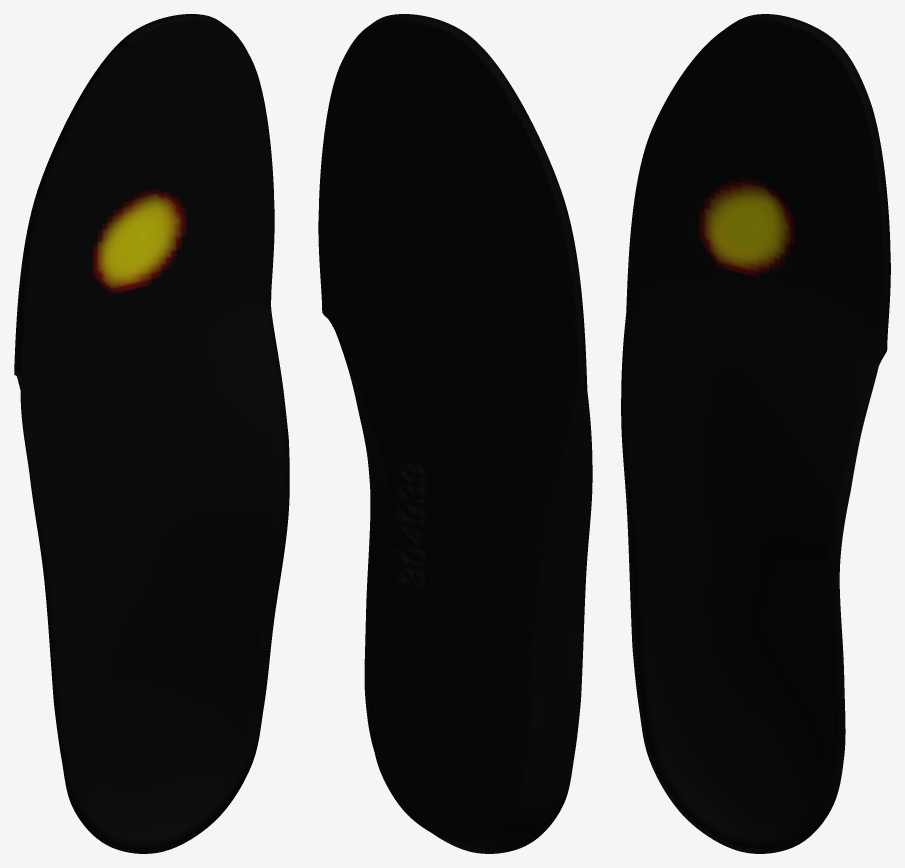
File: PAIR-OFFLOAD-2ND-3RD_LEFT.glb
3 renders of one model, left to right at view 1: azimuth 30°, elevation 25°; view 2: azimuth 150°, elevation 25°; view 3: azimuth 330°, elevation 25°, orthographic. The views are drawn at different scales.
Parts seen in each view (by area): view 1: geometry_0; view 2: geometry_0; view 3: geometry_0.
Part boxes in pixels (x1=…): geometry_0: x1=14, y1=14, x2=289, y2=853; geometry_0: x1=318, y1=14, x2=592, y2=853; geometry_0: x1=621, y1=14, x2=890, y2=853.
Bounding box in the file's own units: 104 × 317 × 25.01.
